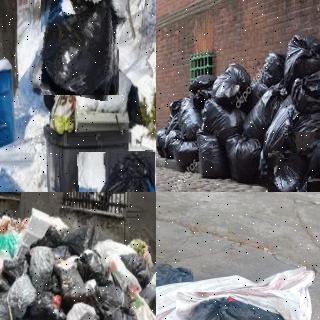Garbage: (36, 0, 123, 98), (176, 290, 301, 320), (78, 151, 156, 192), (284, 32, 320, 90), (222, 131, 261, 182), (195, 129, 230, 180), (266, 151, 308, 192), (245, 87, 284, 127), (204, 98, 245, 134), (210, 61, 247, 100), (296, 131, 320, 181), (256, 50, 285, 90), (21, 294, 65, 320), (74, 252, 107, 285), (176, 94, 201, 137), (171, 137, 203, 169), (291, 73, 320, 108), (105, 305, 139, 320), (63, 312, 106, 320)
